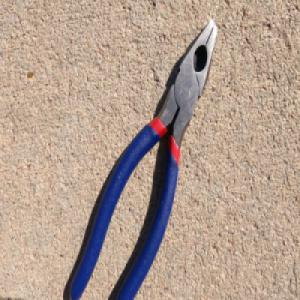Pliers: (67, 18, 217, 300)
